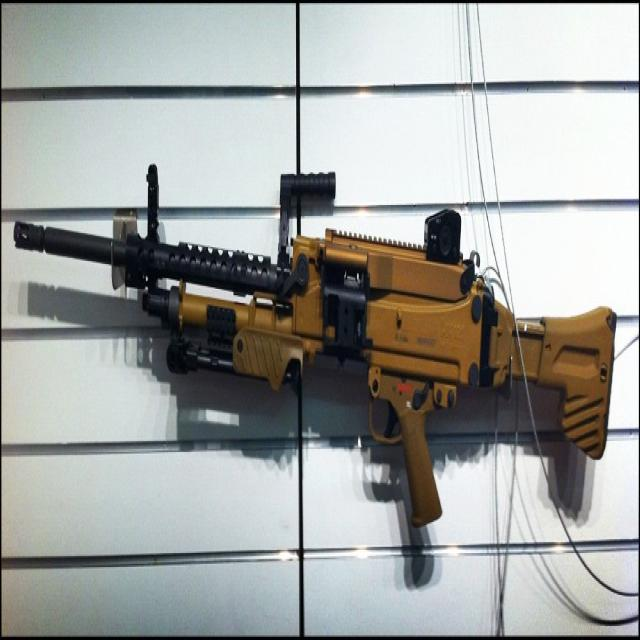firearm: (14, 165, 618, 534)
